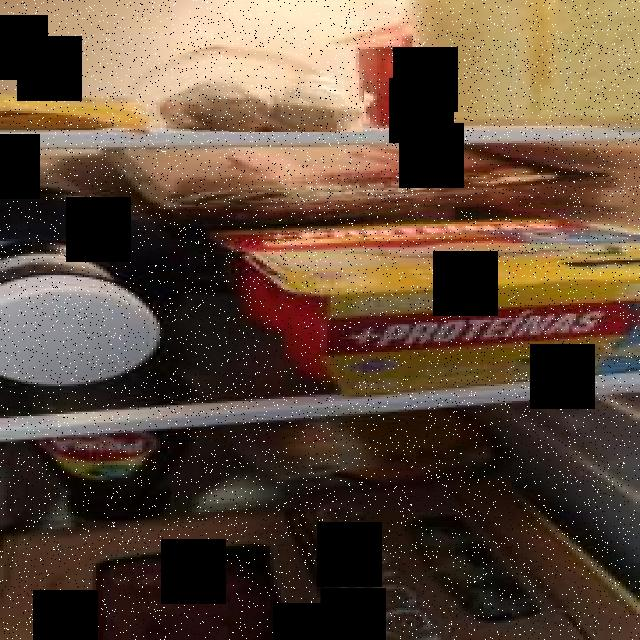sausage: (162, 73, 364, 132)
